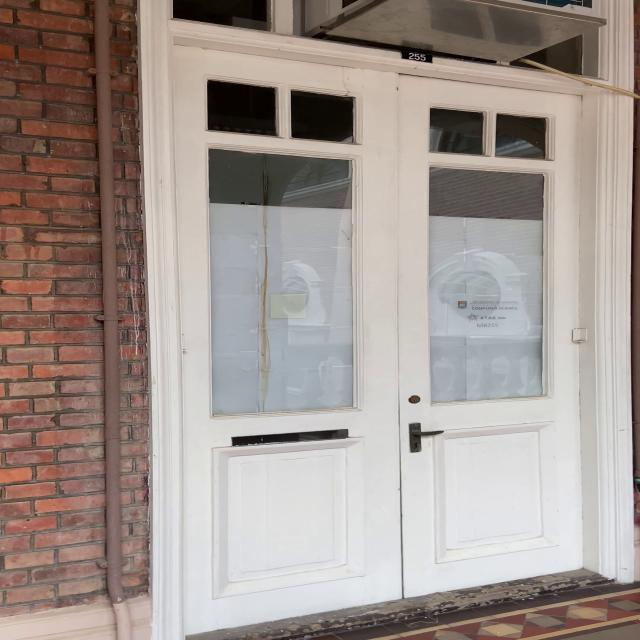room255: (398, 48, 434, 64)
